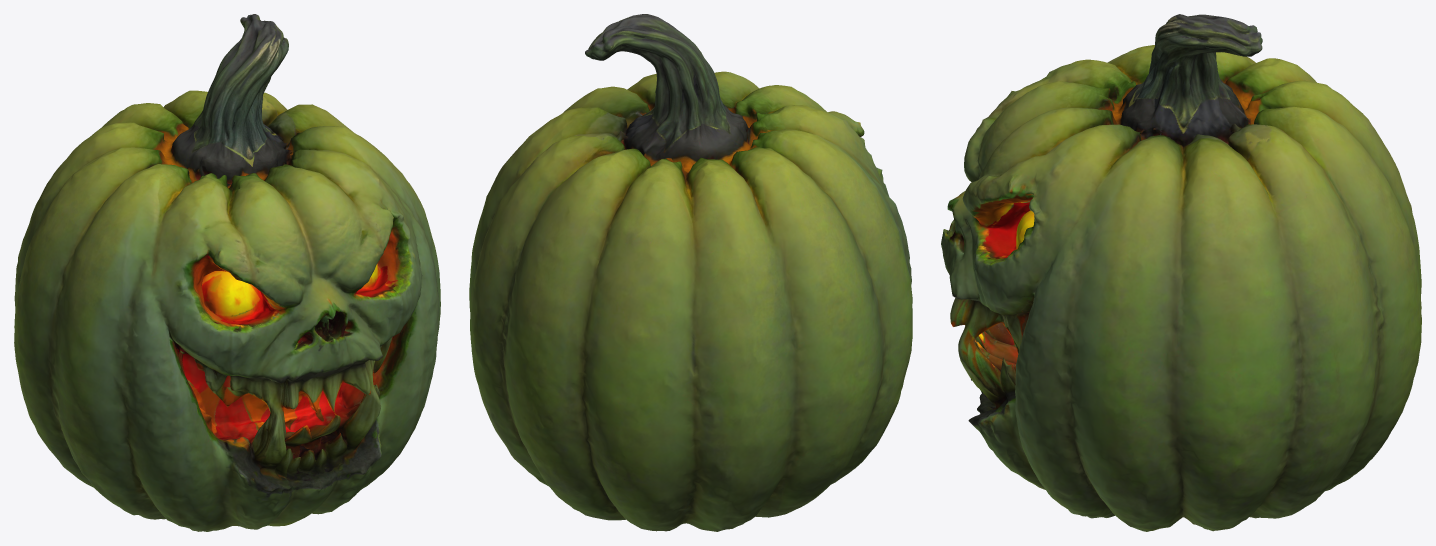
Rendered from pumpkin.glb.
3 views of the same model, side by side, from view 1: azimuth 30°, elevation 25°; view 2: azimuth 150°, elevation 25°; view 3: azimuth 270°, elevation 25° (orthographic). The views are drawn at different scales.
Size of the model in its own units: 1.74 by 1.99 by 1.75.
1 material, 1 textured.
